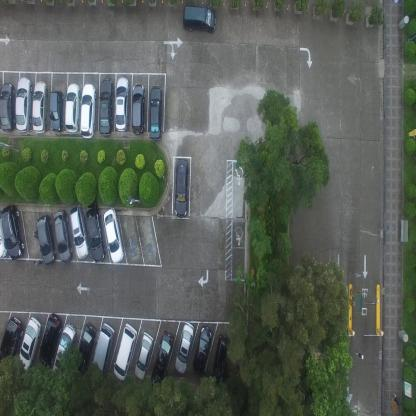car: (112, 322, 138, 381), (150, 329, 175, 389), (84, 198, 106, 262), (51, 322, 76, 378), (38, 310, 62, 368), (17, 315, 41, 370), (1, 204, 24, 261), (102, 205, 124, 264), (0, 315, 24, 369), (92, 322, 115, 376), (52, 207, 72, 264), (69, 202, 89, 258), (175, 319, 195, 375), (35, 214, 56, 266), (182, 5, 217, 35), (15, 74, 32, 134), (76, 323, 96, 374), (192, 325, 212, 376), (212, 332, 230, 388), (134, 331, 154, 381), (80, 82, 97, 138), (31, 79, 48, 134), (175, 159, 190, 220), (64, 81, 80, 133), (99, 76, 113, 135), (0, 81, 16, 132), (115, 75, 129, 132), (148, 84, 162, 140), (131, 83, 145, 135), (49, 87, 63, 133), (0, 216, 7, 260)
